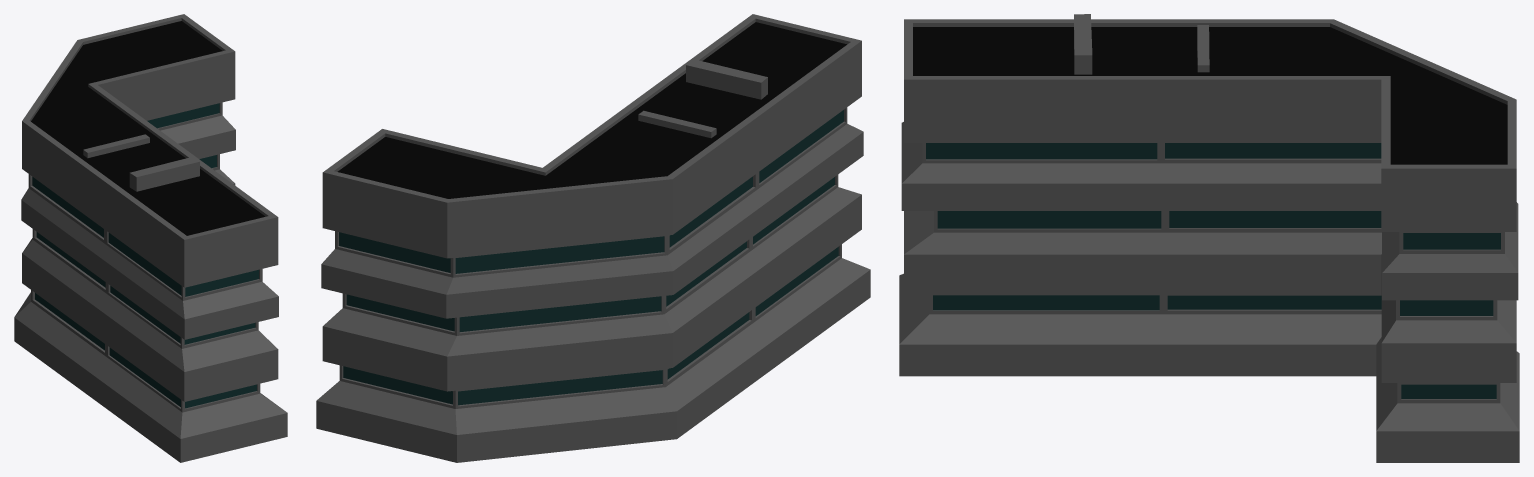
File: 4COMBUSTIONATIONB( (2).fbx
3 renders of one model, left to right at view 1: azimuth 30°, elevation 25°; view 2: azimuth 150°, elevation 25°; view 3: azimuth 270°, elevation 25°, orthographic. The views are drawn at different scales.
Parts seen in each view (by area): view 1: Corner bld; view 2: Corner bld; view 3: Corner bld.
Part boxes in pixels (x1=…): Corner bld: x1=14, y1=14, x2=287, y2=462; Corner bld: x1=316, y1=14, x2=870, y2=462; Corner bld: x1=899, y1=14, x2=1519, y2=462.
Bounding box in the file's own units: 400 × 367 × 673.
